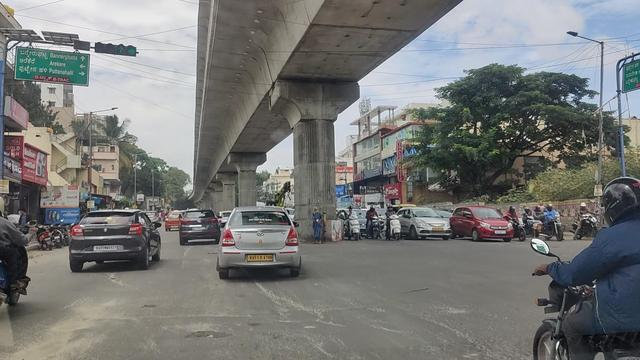LMV: (218, 206, 305, 282), (72, 206, 164, 271)
RoadDamages: (256, 283, 322, 320), (142, 307, 249, 325)
